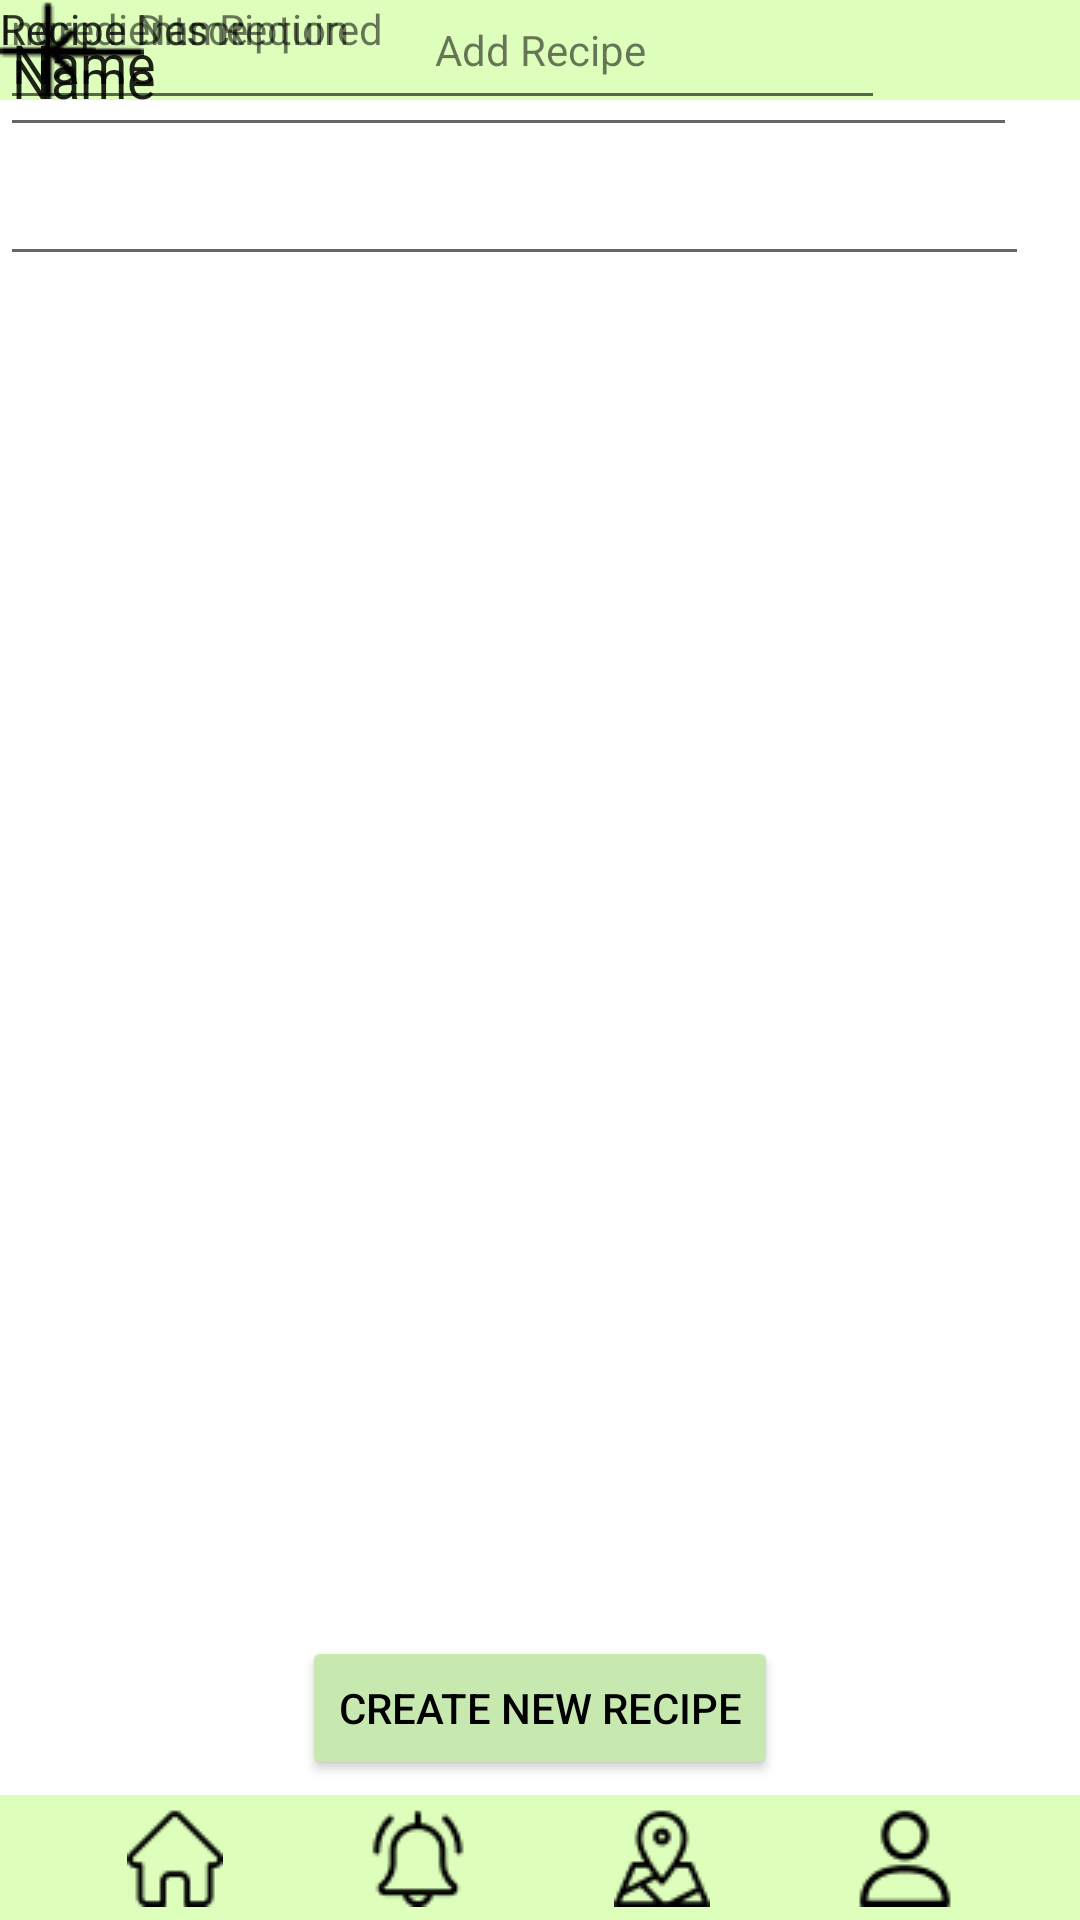

Point at icon controls on the screen. Image size 1080×1920, points as point (x, y).
home: point (175, 1858)
maps: point (662, 1858)
profile: point (905, 1858)
reminder: point (418, 1858)
